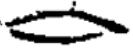Mouth: (4, 9, 129, 43)
